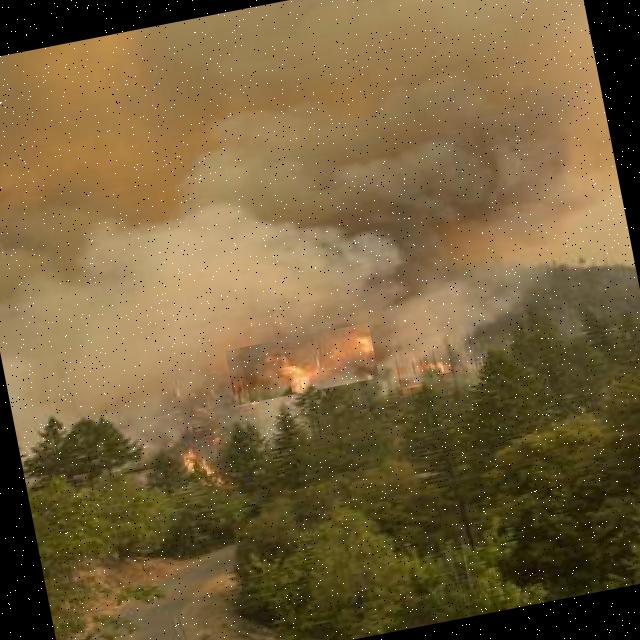fire: (225, 322, 379, 406)
